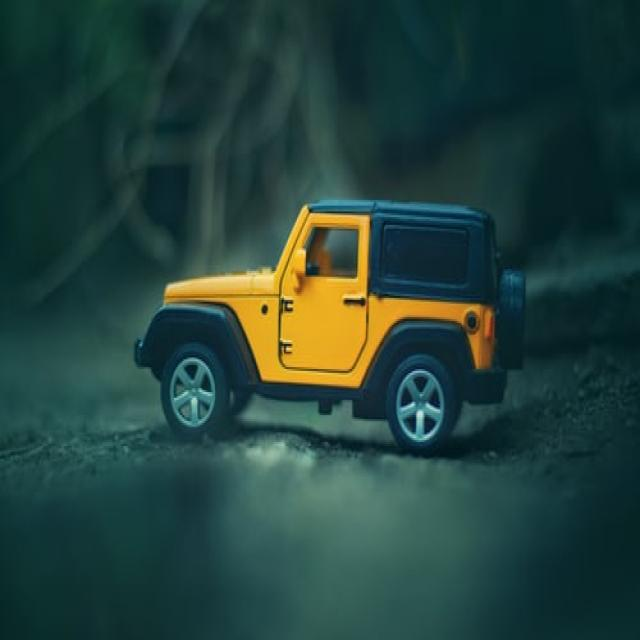Car: (133, 196, 526, 456)
